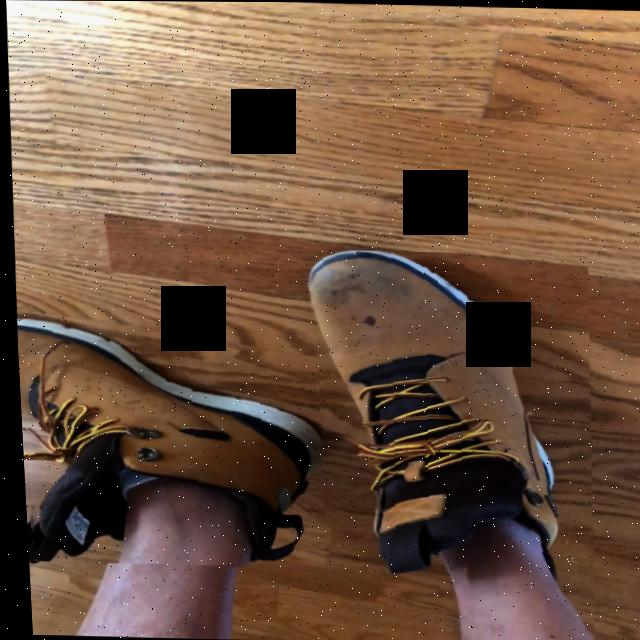shoe: (303, 249, 589, 640), (13, 324, 316, 561)
